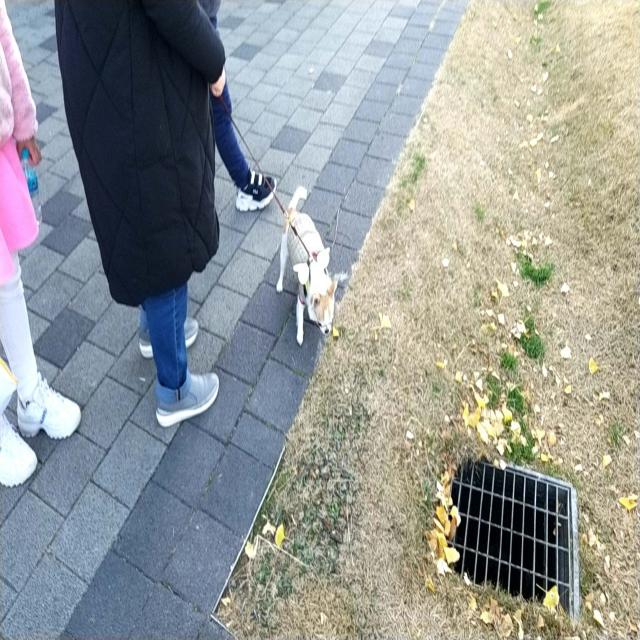Leashed_Dog: (174, 38, 339, 428)
